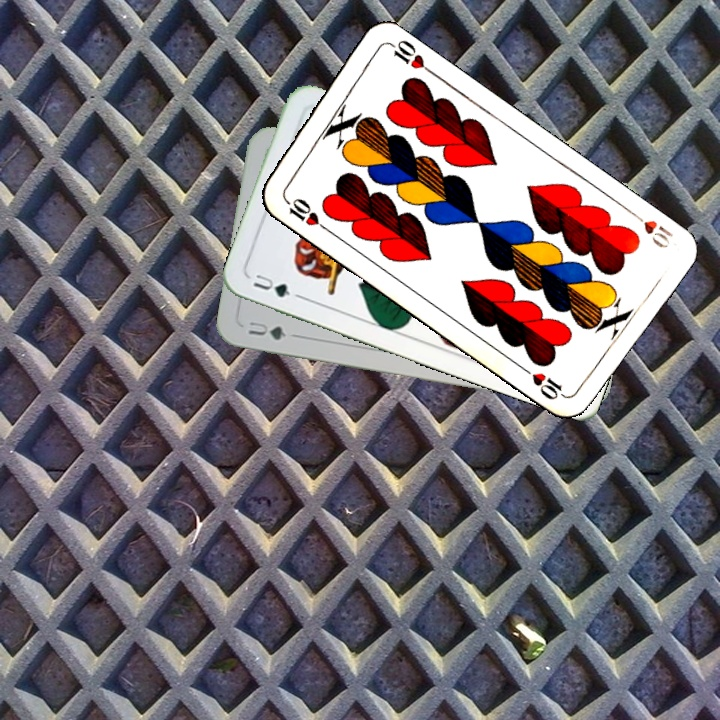GU: (249, 269, 293, 300), (244, 317, 290, 343)
H10: (625, 206, 676, 251), (279, 192, 330, 233)
